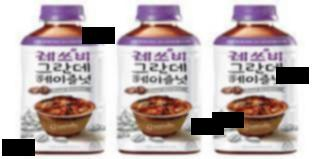letsbe_grande_hazelnut: (20, 0, 107, 155), (211, 4, 299, 155), (117, 3, 201, 155)
